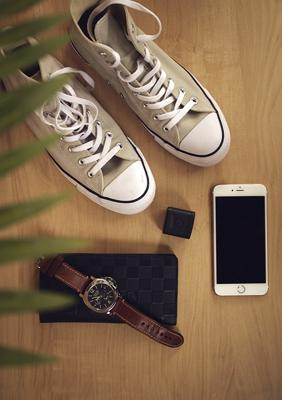Mobile Phone: (210, 182, 269, 296)
